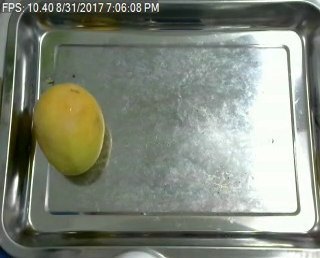Mango: (36, 83, 104, 171)
